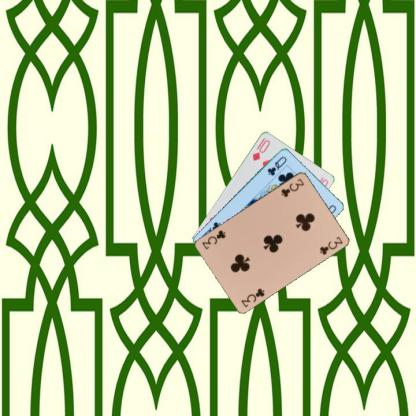10d: (250, 137, 271, 162)
3c: (238, 285, 266, 308), (279, 176, 305, 198)
Qc: (264, 154, 288, 176)
